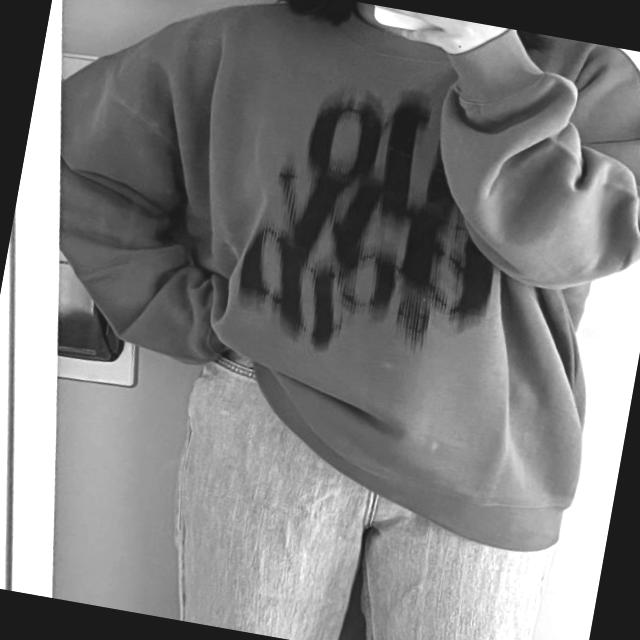denimpants: (150, 339, 580, 640)
mtm: (0, 0, 640, 567)
